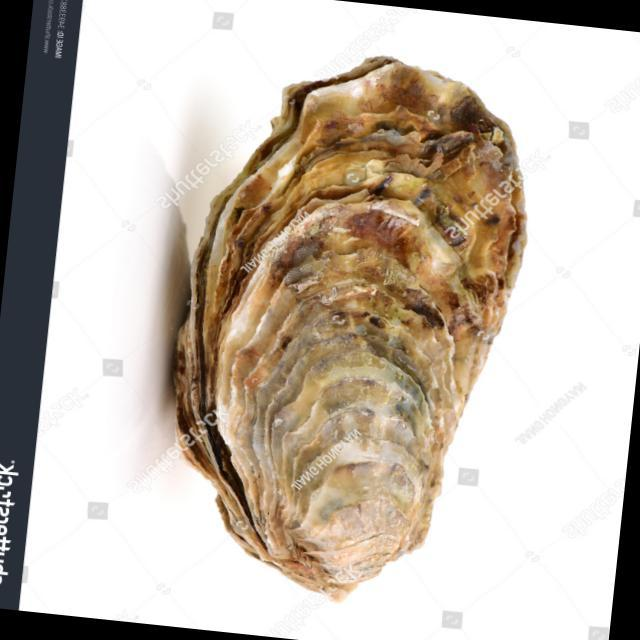Oyster- Indeterminate: (173, 61, 529, 603)
